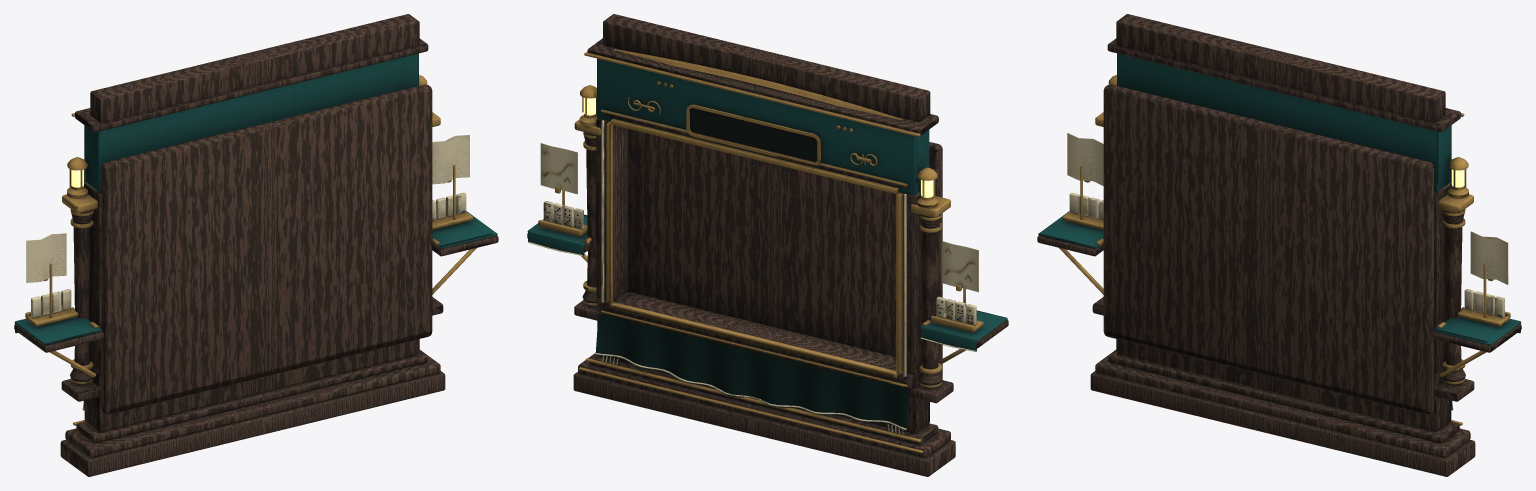
The picture shows the model from 3 angles, left to right: view 1: azimuth 30°, elevation 25°; view 2: azimuth 150°, elevation 25°; view 3: azimuth 330°, elevation 25°; orthographic projection.
Parts seen in each view (by area): view 1: Smoked_walnut, Petrol_woven_cloth, Ivory_paper_and_ceramic, Touring_brass; view 2: Smoked_walnut, Petrol_woven_cloth, Touring_brass, Ivory_paper_and_ceramic, Even_dark_display; view 3: Smoked_walnut, Petrol_woven_cloth, Ivory_paper_and_ceramic, Touring_brass.
Part boxes in pixels (<box>): Smoked_walnut: <box>14,14,498,476</box>; Petrol_woven_cloth: <box>14,53,497,410</box>; Ivory_paper_and_ceramic: <box>26,135,469,409</box>; Touring_brass: <box>25,75,476,431</box>; Smoked_walnut: <box>527,14,1008,476</box>; Petrol_woven_cloth: <box>527,58,1007,430</box>; Touring_brass: <box>538,49,983,453</box>; Ivory_paper_and_ceramic: <box>528,120,978,434</box>; Even_dark_display: <box>544,108,973,323</box>; Smoked_walnut: <box>1037,14,1521,476</box>; Petrol_woven_cloth: <box>1038,53,1521,410</box>; Ivory_paper_and_ceramic: <box>1067,133,1508,409</box>; Touring_brass: <box>1059,75,1510,431</box>.
Size of the model in its own units: 10.8 by 8.4 by 1.4.
Materials: 6 (5 with a texture image).
